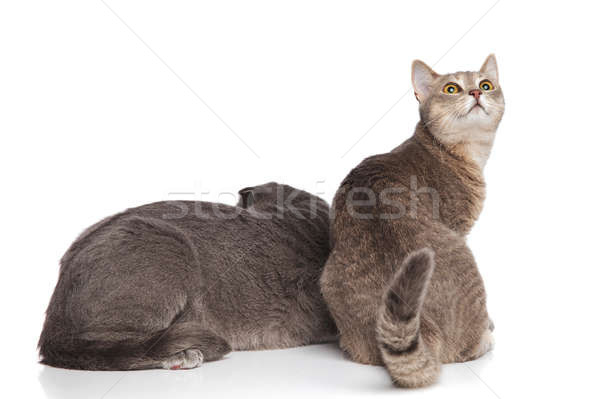cat: (400, 55, 507, 239)
